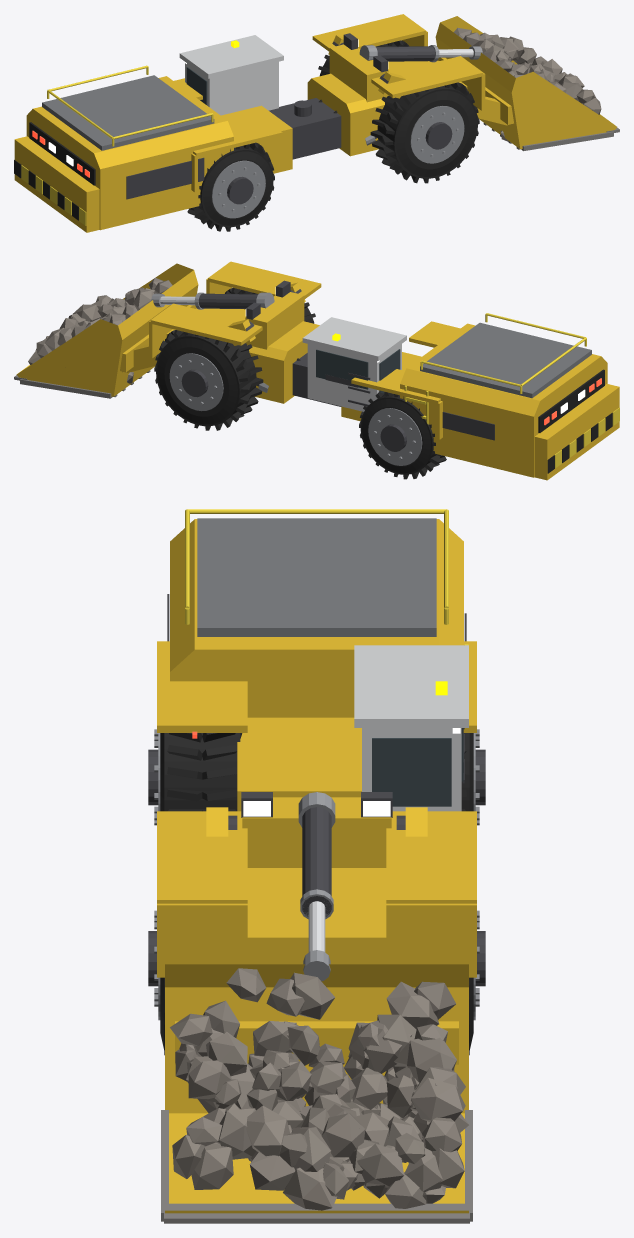
File: EQ_LHD_18t.glb
3 renders of one model, top to bottom at view 1: azimuth 30°, elevation 25°; view 2: azimuth 150°, elevation 25°; view 3: azimuth 270°, elevation 25°, orthographic. The views are drawn at different scales.
Visible parts, largest first — view 1: LHD_RearFrame, LHD_FrontFrame, LHD_Wheel_FR, LHD_Bucket, LHD_Wheel_RR, LHD_Bucket_Ore, LHD_TiltCyl, LHD_Boom, LHD_TiltCyl_Rod; view 2: LHD_RearFrame, LHD_FrontFrame, LHD_Bucket, LHD_Wheel_FL, LHD_Wheel_RL, LHD_Bucket_Ore, LHD_TiltCyl, LHD_Boom, LHD_TiltCyl_Rod; view 3: LHD_RearFrame, LHD_Bucket_Ore, LHD_FrontFrame, LHD_Bucket, LHD_Wheel_RR, LHD_Boom, LHD_TiltCyl, LHD_Wheel_RL, LHD_TiltCyl_Rod, LHD_Wheel_FL, LHD_Wheel_FR.
Part boxes in pixels (left/top/right/bottom): LHD_RearFrame: left=14, top=35, right=321, bottom=232; LHD_FrontFrame: left=306, top=14, right=485, bottom=156; LHD_Wheel_FR: left=370, top=82, right=479, bottom=183; LHD_Bucket: left=435, top=16, right=619, bottom=151; LHD_Wheel_RR: left=187, top=142, right=274, bottom=231; LHD_Bucket_Ore: left=453, top=27, right=601, bottom=141; LHD_TiltCyl: left=359, top=45, right=439, bottom=62; LHD_Boom: left=328, top=35, right=507, bottom=125; LHD_TiltCyl_Rod: left=438, top=46, right=482, bottom=59; LHD_RearFrame: left=302, top=313, right=619, bottom=480; LHD_FrontFrame: left=149, top=261, right=321, bottom=403; LHD_Bucket: left=14, top=263, right=198, bottom=398; LHD_Wheel_FL: left=154, top=330, right=263, bottom=430; LHD_Wheel_RL: left=359, top=391, right=446, bottom=479; LHD_Bucket_Ore: left=28, top=277, right=172, bottom=383; LHD_TiltCyl: left=194, top=292, right=274, bottom=309; LHD_Boom: left=126, top=282, right=305, bottom=372; LHD_TiltCyl_Rod: left=151, top=293, right=195, bottom=307; LHD_RearFrame: left=157, top=509, right=476, bottom=811; LHD_Bucket_Ore: left=170, top=968, right=468, bottom=1210; LHD_FrontFrame: left=157, top=792, right=476, bottom=977; LHD_Bucket: left=161, top=964, right=472, bottom=1223; LHD_Wheel_RR: left=148, top=729, right=242, bottom=825; LHD_Boom: left=206, top=807, right=427, bottom=964; LHD_TiltCyl: left=298, top=792, right=335, bottom=919; LHD_Wheel_RL: left=461, top=729, right=485, bottom=825; LHD_TiltCyl_Rod: left=303, top=901, right=330, bottom=981; LHD_Wheel_FL: left=469, top=910, right=485, bottom=1055; LHD_Wheel_FR: left=148, top=910, right=164, bottom=1055.
Bounding box in the file's own units: 12.31 × 2.7 × 3.38.
